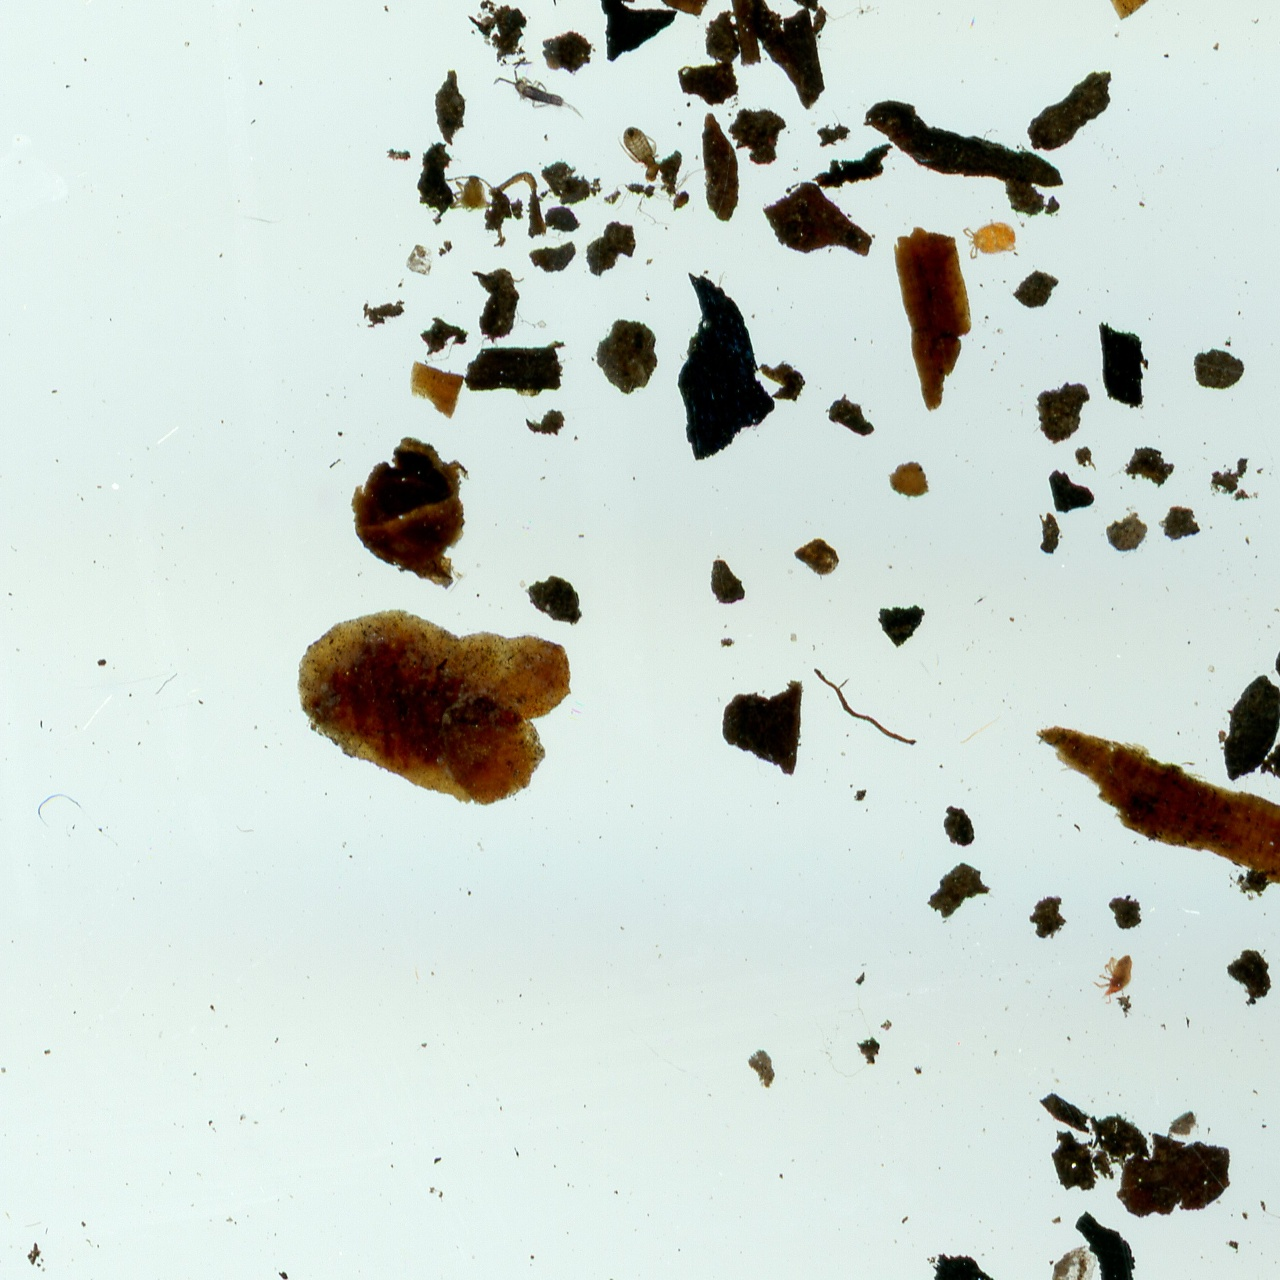arthropod: (486, 49, 610, 134), (609, 115, 679, 194), (961, 216, 1020, 264), (1091, 952, 1134, 1008), (443, 171, 497, 215)
